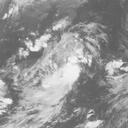cyclone: (35, 38, 93, 90)
